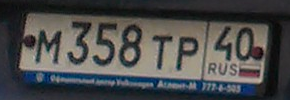character: (118, 19, 144, 69), (66, 18, 92, 67), (94, 18, 118, 68), (33, 28, 63, 67), (174, 34, 200, 75), (151, 32, 173, 71), (213, 24, 234, 62), (235, 24, 255, 62)
